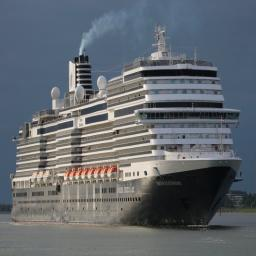cruises: (9, 26, 246, 232)
